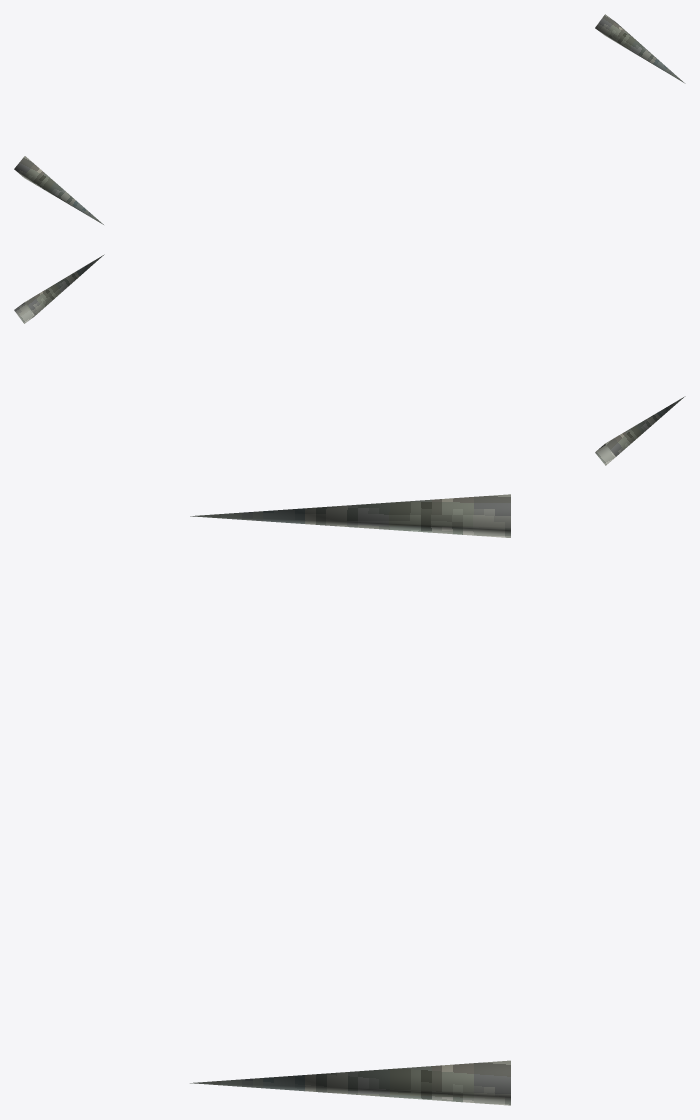
The model's file is hutt_fighter_medium_weapon2_s01_l2.fbx.
3 renders of one model, top to bottom at view 1: azimuth 30°, elevation 25°; view 2: azimuth 150°, elevation 25°; view 3: azimuth 270°, elevation 25°, orthographic. The views are drawn at different scales.
Visible parts, largest first — view 1: mesh_node; view 2: mesh_node; view 3: mesh_node.
Part boxes in pixels (x1,y1,x2,y2): mesh_node: [14, 14, 685, 224]; mesh_node: [14, 254, 685, 465]; mesh_node: [190, 494, 510, 1105].
Size of the model in its own units: 3.13 by 0.1106 by 0.7254.
1 material, 1 textured.
